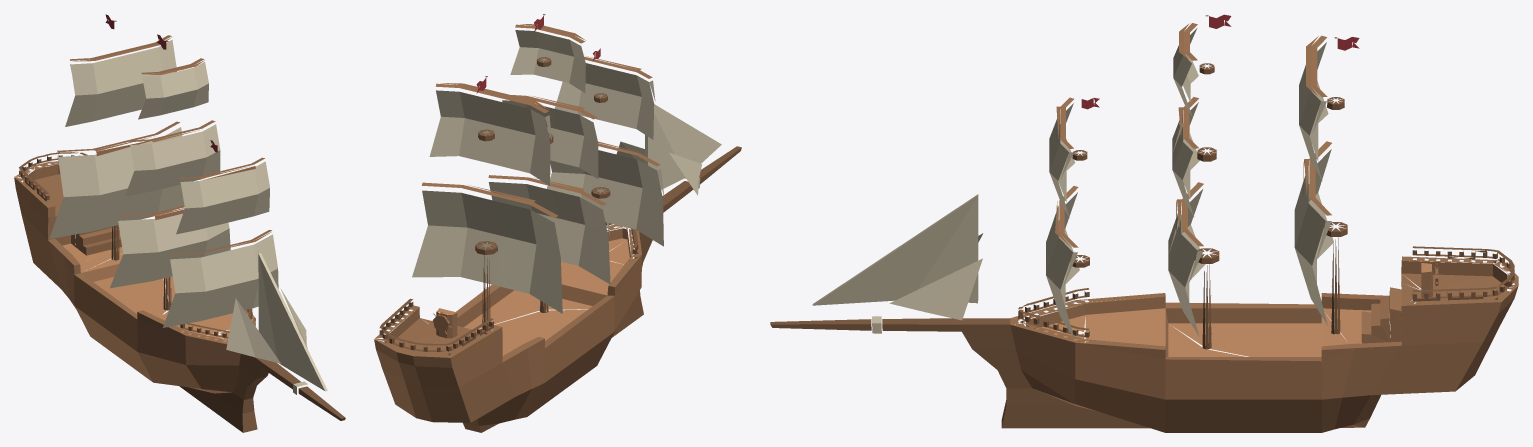
Rendered from sail_ship.glb.
3 renders of one model, left to right at view 1: azimuth 30°, elevation 25°; view 2: azimuth 150°, elevation 25°; view 3: azimuth 270°, elevation 25°, orthographic. The views are drawn at different scales.
Visible parts, largest first — view 1: BigShip, BackSail, MidleSail, Front Sail; view 2: BigShip, BackSail, MidleSail, Front Sail; view 3: BigShip, BackSail, MidleSail, Front Sail.
Boxes of the visible parts, x1,y1,x2,y2 form: BigShip: (14,14,345,432); BackSail: (49,35,184,238); MidleSail: (110,58,230,288); Front Sail: (163,157,278,327); BigShip: (374,14,741,432); BackSail: (412,83,562,313); MidleSail: (488,24,610,284); Front Sail: (546,56,664,246); BigShip: (770,14,1518,432); BackSail: (1294,35,1333,325); MidleSail: (1168,23,1205,336); Front Sail: (1046,97,1079,339).
Size of the model in its own units: 1.7 by 3.85 by 6.38.
